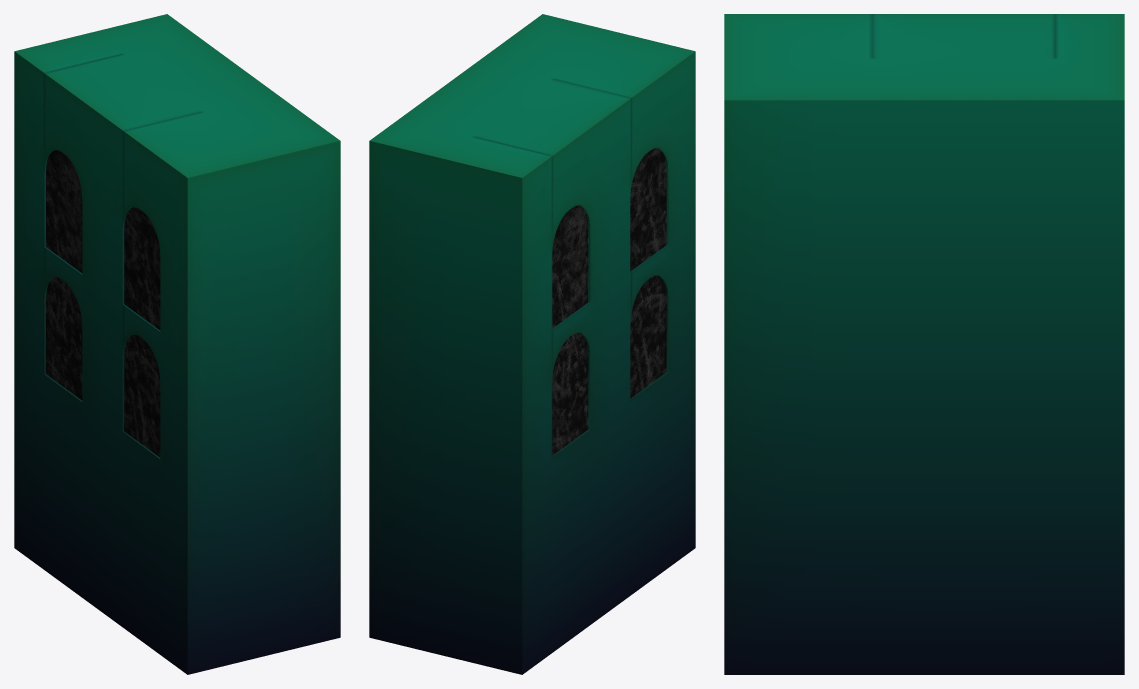
3 renders of one model, left to right at view 1: azimuth 30°, elevation 25°; view 2: azimuth 150°, elevation 25°; view 3: azimuth 270°, elevation 25°, orthographic. The views are drawn at different scales.
Size of the model in its own units: 55.42 by 109 by 172.
Materials: 2 (2 with a texture image).
